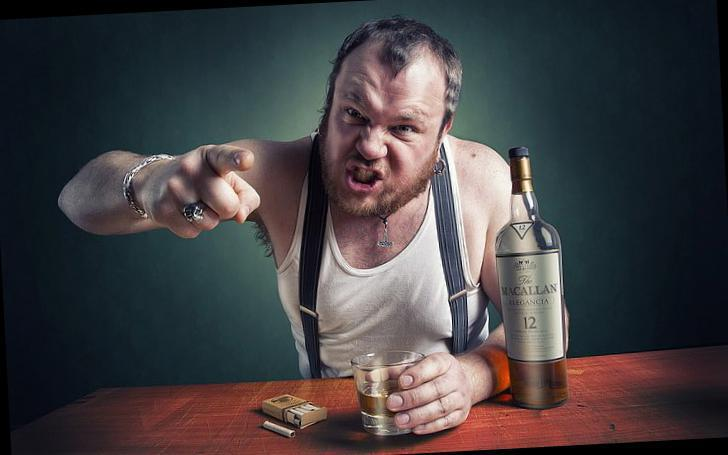Drunk: (330, 55, 432, 212)
